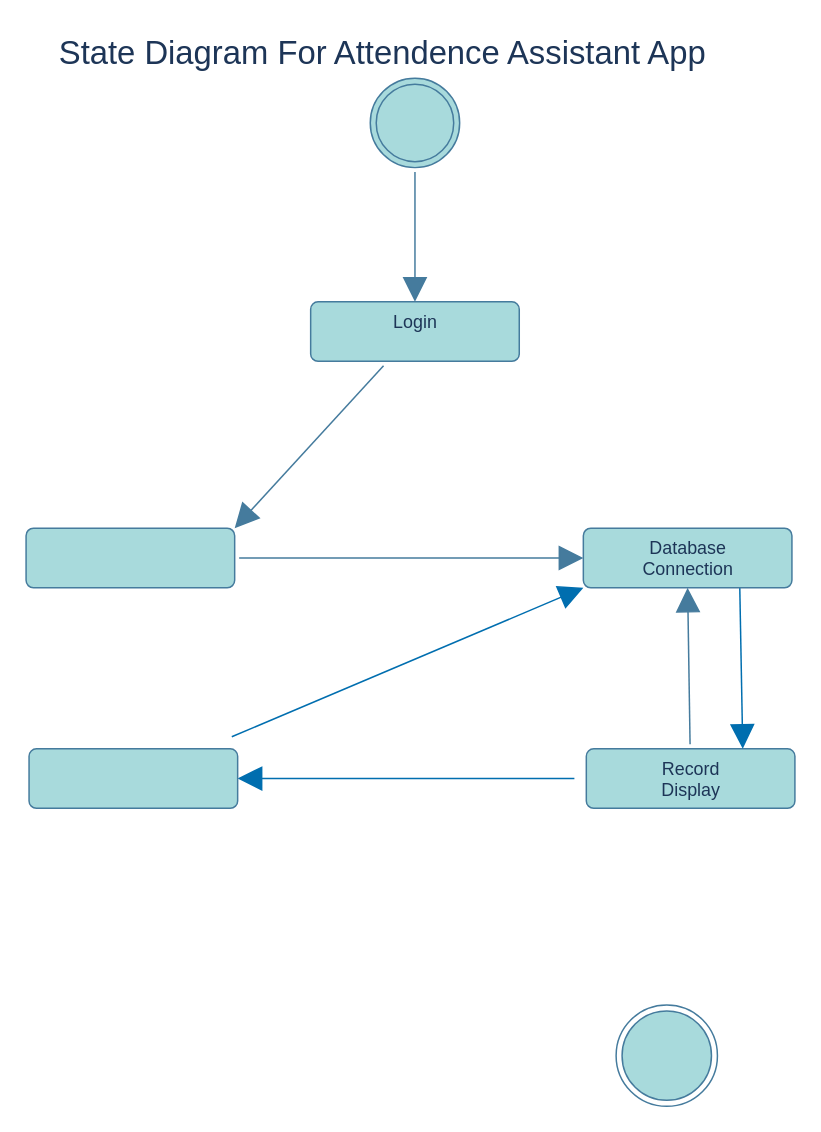
Image size: 821x1132. Some labels were removed from this diagram. The shapes that lost their labels are listed below. From the top down, each one's box as (x1, y1, x2, y2) in pixels, then its label:
(25, 527, 235, 588): Camera Capturing
(28, 747, 238, 808): Comments Screen
